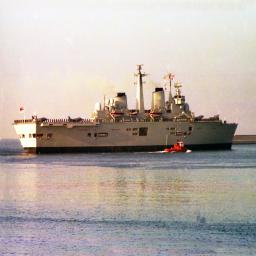Portanaves: (11, 65, 241, 155)
